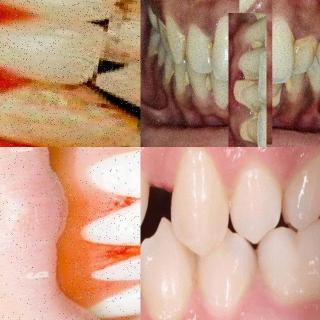Gum Swelling: (64, 190, 140, 293)
calculus: (291, 32, 320, 71), (233, 80, 261, 108), (237, 114, 260, 146), (285, 75, 301, 105), (200, 38, 216, 68), (269, 78, 283, 112), (246, 37, 268, 57), (237, 65, 261, 82), (161, 64, 177, 89), (172, 33, 190, 55), (178, 67, 192, 95), (151, 20, 169, 41), (202, 75, 214, 102), (247, 12, 266, 26), (149, 39, 160, 61)
